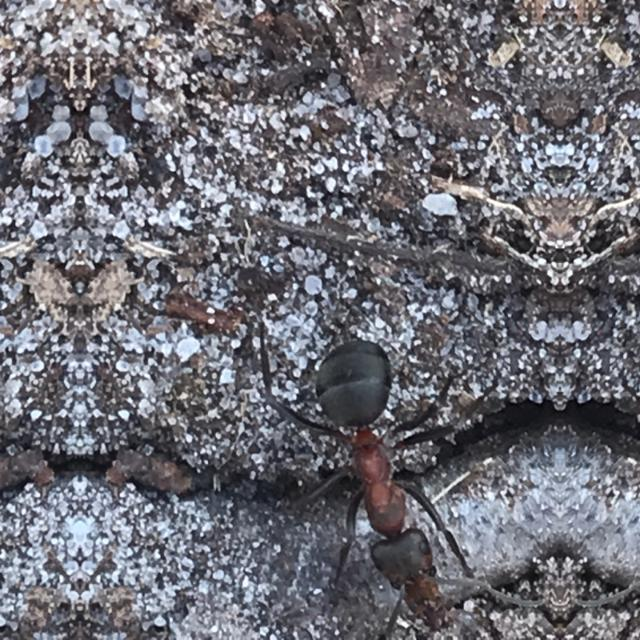Formica: (240, 273, 538, 629)
